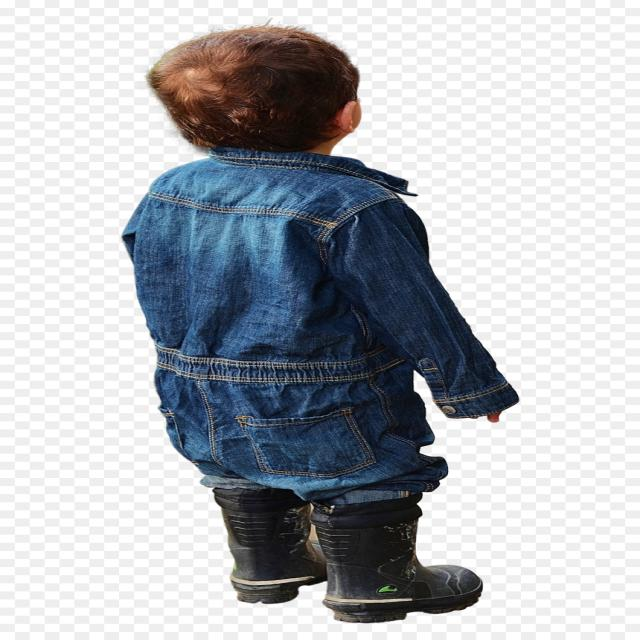child: (121, 22, 523, 624)
